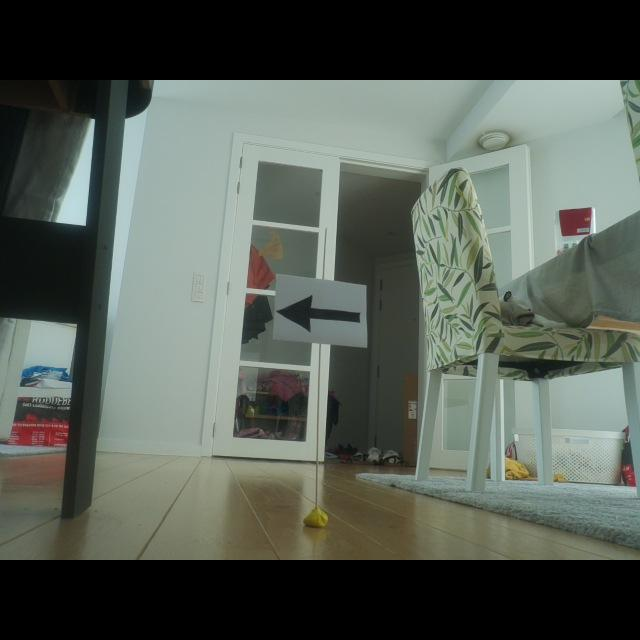balra_nyil: (277, 295, 359, 332)
